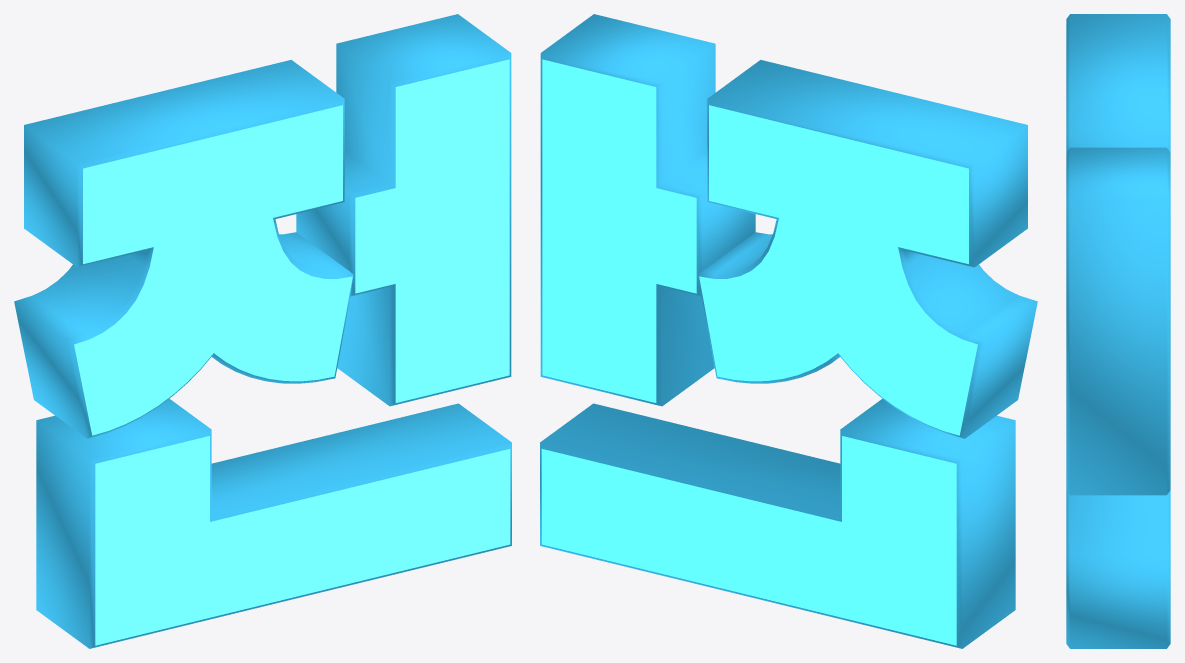
3 views of the same model, side by side, from view 1: azimuth 30°, elevation 25°; view 2: azimuth 150°, elevation 25°; view 3: azimuth 270°, elevation 25° (orthographic). The views are drawn at different scales.
Visible parts, largest first — view 1: glyph; view 2: glyph; view 3: glyph.
Part boxes in pixels (x1=…): glyph: x1=14, y1=14, x2=511, y2=648; glyph: x1=540, y1=14, x2=1037, y2=648; glyph: x1=1066, y1=14, x2=1170, y2=648.
Bounding box in the file's own units: 0.0723 × 0.0766 × 0.0162.
